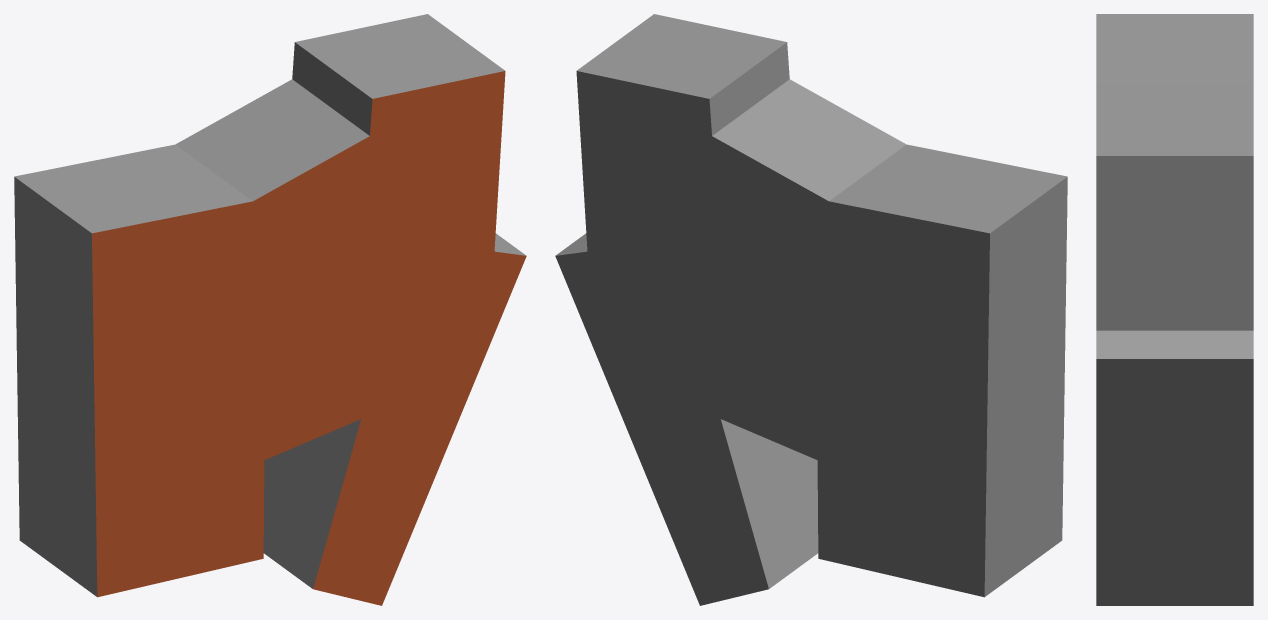
The model's file is construction_1728_assumed_A_Casa_h6m.obj.
The picture shows the model from 3 angles, left to right: view 1: azimuth 30°, elevation 25°; view 2: azimuth 150°, elevation 25°; view 3: azimuth 270°, elevation 25°; orthographic projection.
Visible parts, largest first — view 1: construction_1728_assumed_A_Casa; view 2: construction_1728_assumed_A_Casa; view 3: construction_1728_assumed_A_Casa.
Part boxes in pixels (bbox=[...]): construction_1728_assumed_A_Casa: bbox=[14, 14, 526, 605]; construction_1728_assumed_A_Casa: bbox=[555, 14, 1067, 605]; construction_1728_assumed_A_Casa: bbox=[1096, 14, 1253, 605].
Bounding box in the file's own units: 19.39 × 21.7 × 6.
